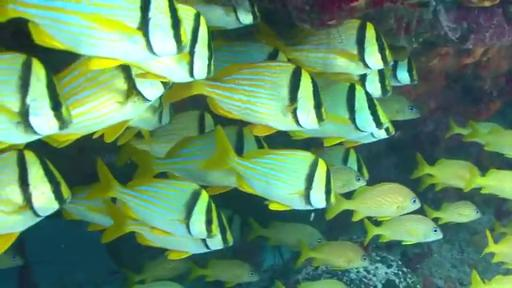Fish: (164, 61, 327, 135), (0, 0, 189, 62), (205, 127, 335, 210), (44, 58, 164, 147), (88, 160, 221, 238), (89, 4, 213, 82), (0, 150, 71, 253), (259, 20, 391, 75), (123, 132, 237, 195), (289, 77, 390, 145), (101, 207, 232, 259), (0, 52, 71, 147), (128, 111, 215, 157), (326, 183, 420, 221), (312, 145, 368, 194), (411, 153, 480, 191), (213, 40, 287, 75), (116, 98, 172, 144), (62, 184, 114, 231), (248, 219, 325, 250), (178, 0, 259, 29), (313, 68, 391, 98), (364, 215, 443, 244), (297, 241, 369, 269), (124, 256, 190, 286), (312, 145, 369, 179), (189, 260, 259, 287), (325, 123, 395, 147), (464, 123, 511, 157), (424, 201, 480, 224), (377, 93, 420, 120), (445, 118, 503, 137), (328, 165, 366, 194), (482, 230, 511, 265), (358, 68, 391, 98), (220, 209, 247, 243), (389, 56, 418, 86), (471, 270, 511, 287), (0, 248, 24, 269), (297, 280, 347, 287), (298, 280, 347, 287), (132, 281, 183, 287), (493, 220, 511, 235)
